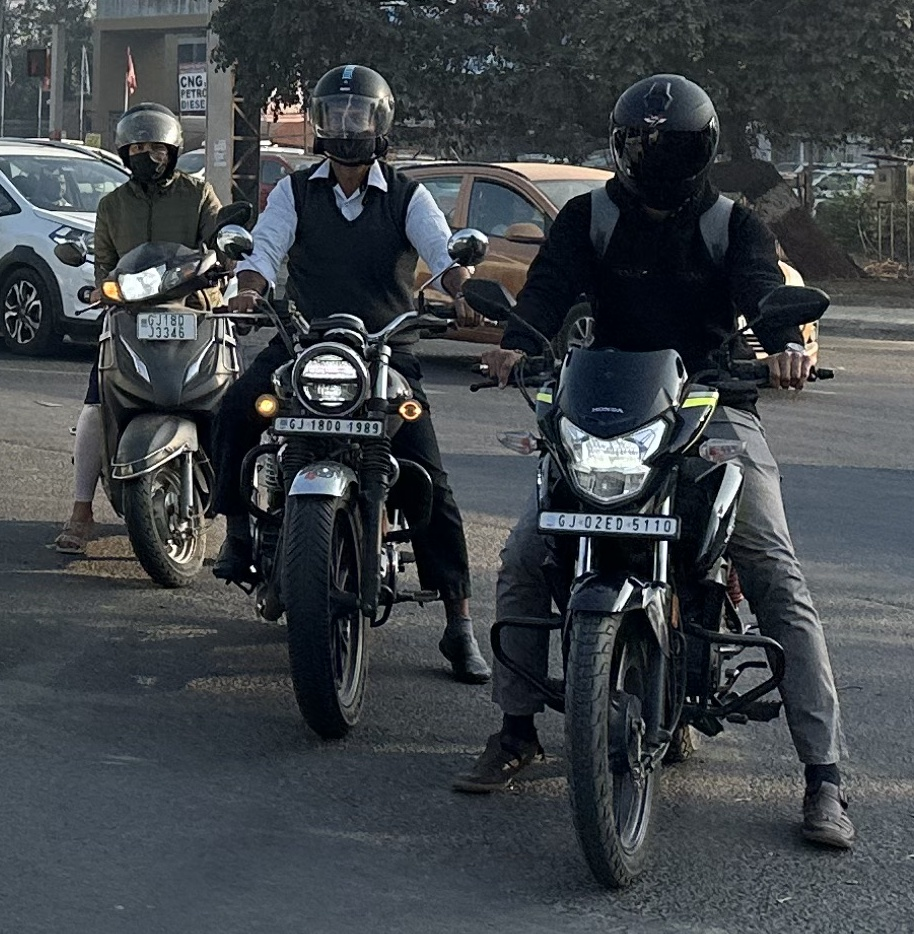BikeWithRider: (442, 64, 864, 899), (192, 54, 501, 749), (45, 93, 266, 595)
Helmet: (592, 64, 735, 222), (296, 54, 406, 177), (105, 92, 192, 193)
